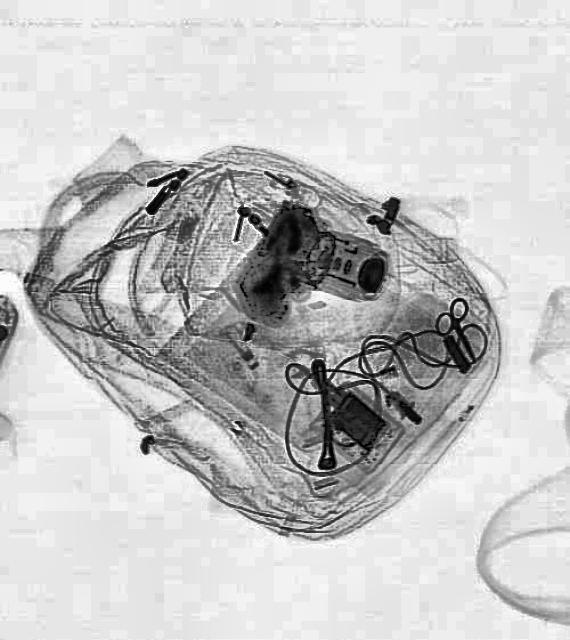Scissors: (426, 293, 491, 369)
